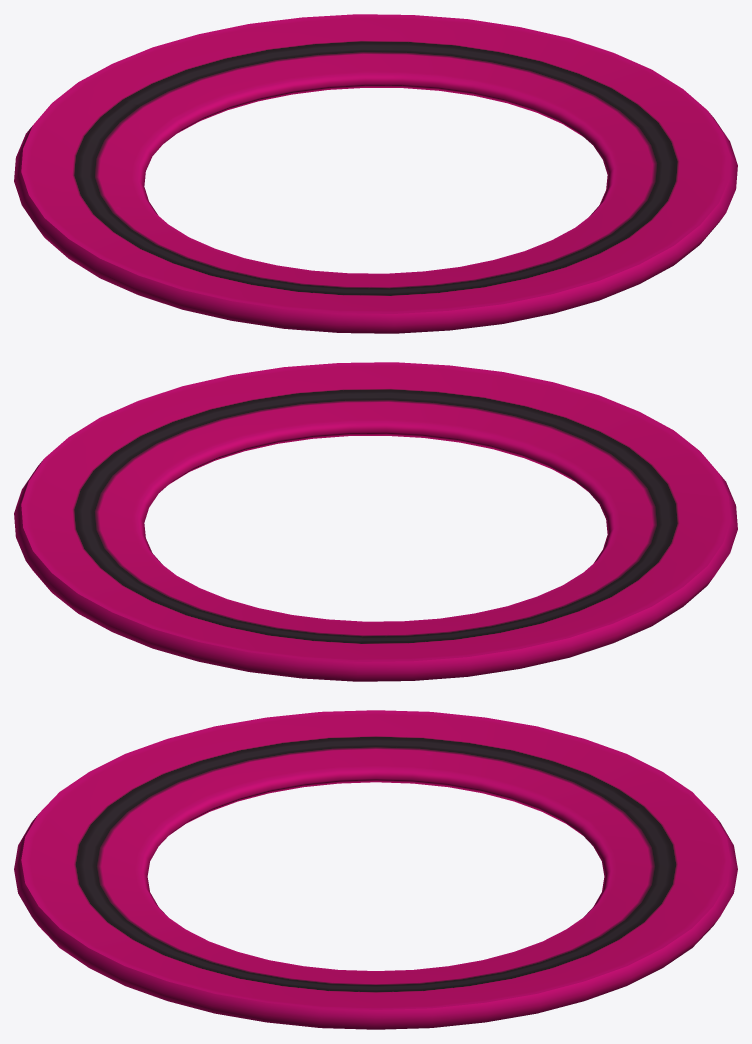
The model's file is Frisbee_Pink_Scaled.fbx.
The picture shows the model from 3 angles, top to bottom: view 1: azimuth 30°, elevation 25°; view 2: azimuth 150°, elevation 25°; view 3: azimuth 270°, elevation 25°; orthographic projection.
Parts seen in each view (by area): view 1: Frisbee; view 2: Frisbee; view 3: Frisbee.
Part boxes in pixels (bbox=[...]): Frisbee: bbox=[14, 14, 737, 333]; Frisbee: bbox=[14, 362, 737, 681]; Frisbee: bbox=[14, 710, 737, 1029].
Bounding box in the file's own units: 41.46 × 1.49 × 41.46.
